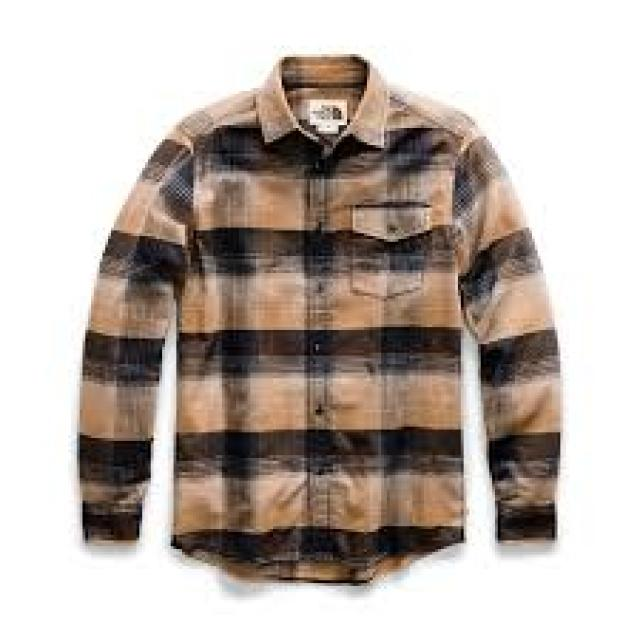plaid: (70, 51, 564, 602)
